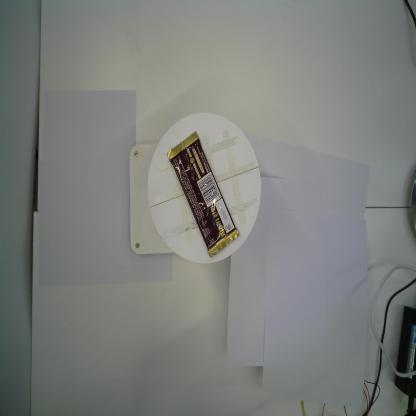Chocolate: (165, 130, 241, 261)
